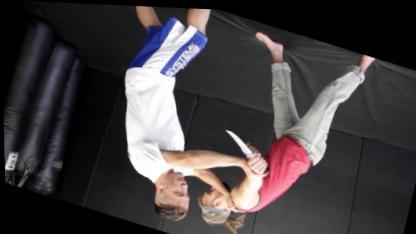knife: (212, 120, 279, 174)
